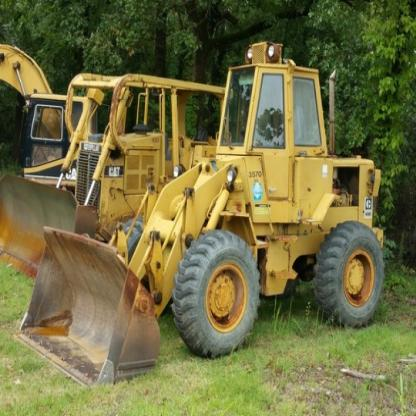bull_dozer/loader/grader: (28, 57, 376, 387)
